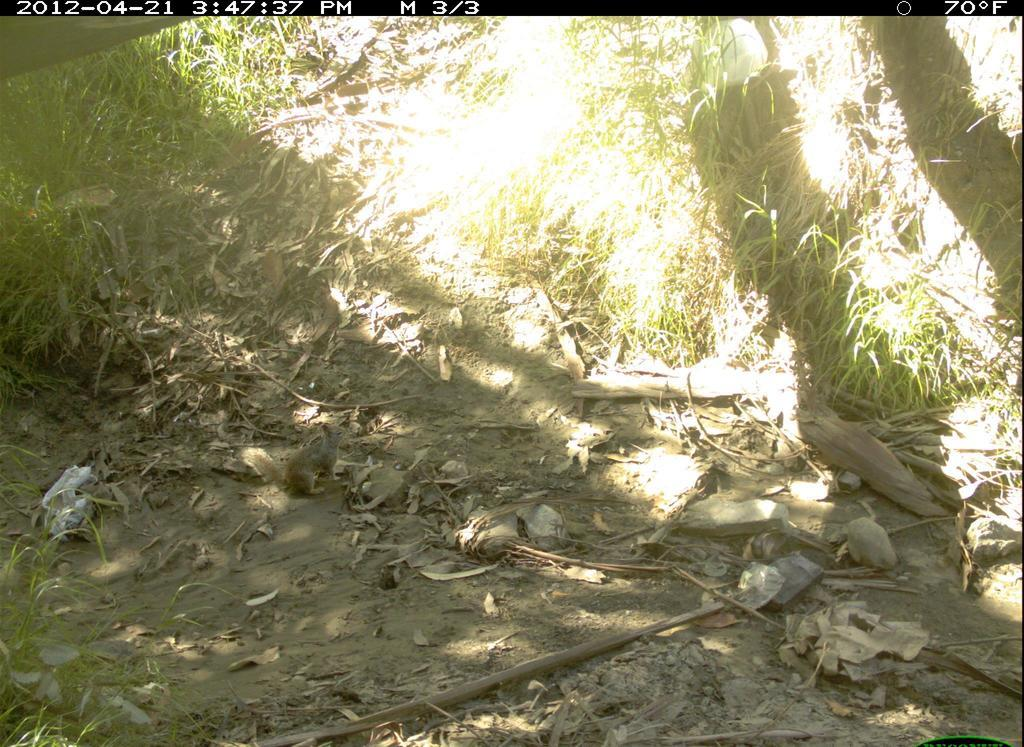squirrel: (242, 423, 363, 500)
